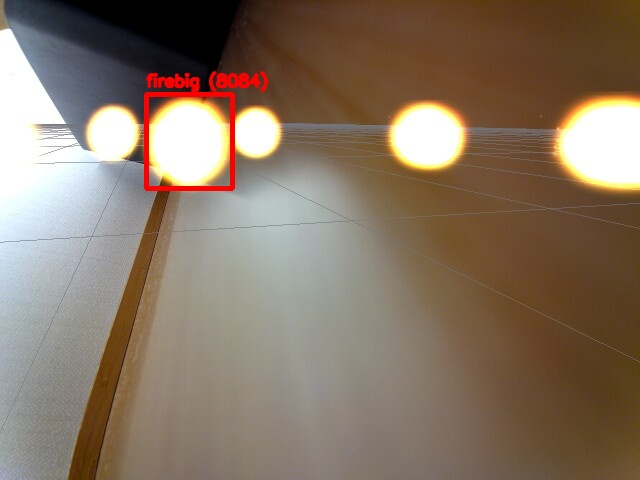firebig: (146, 94, 232, 188)
